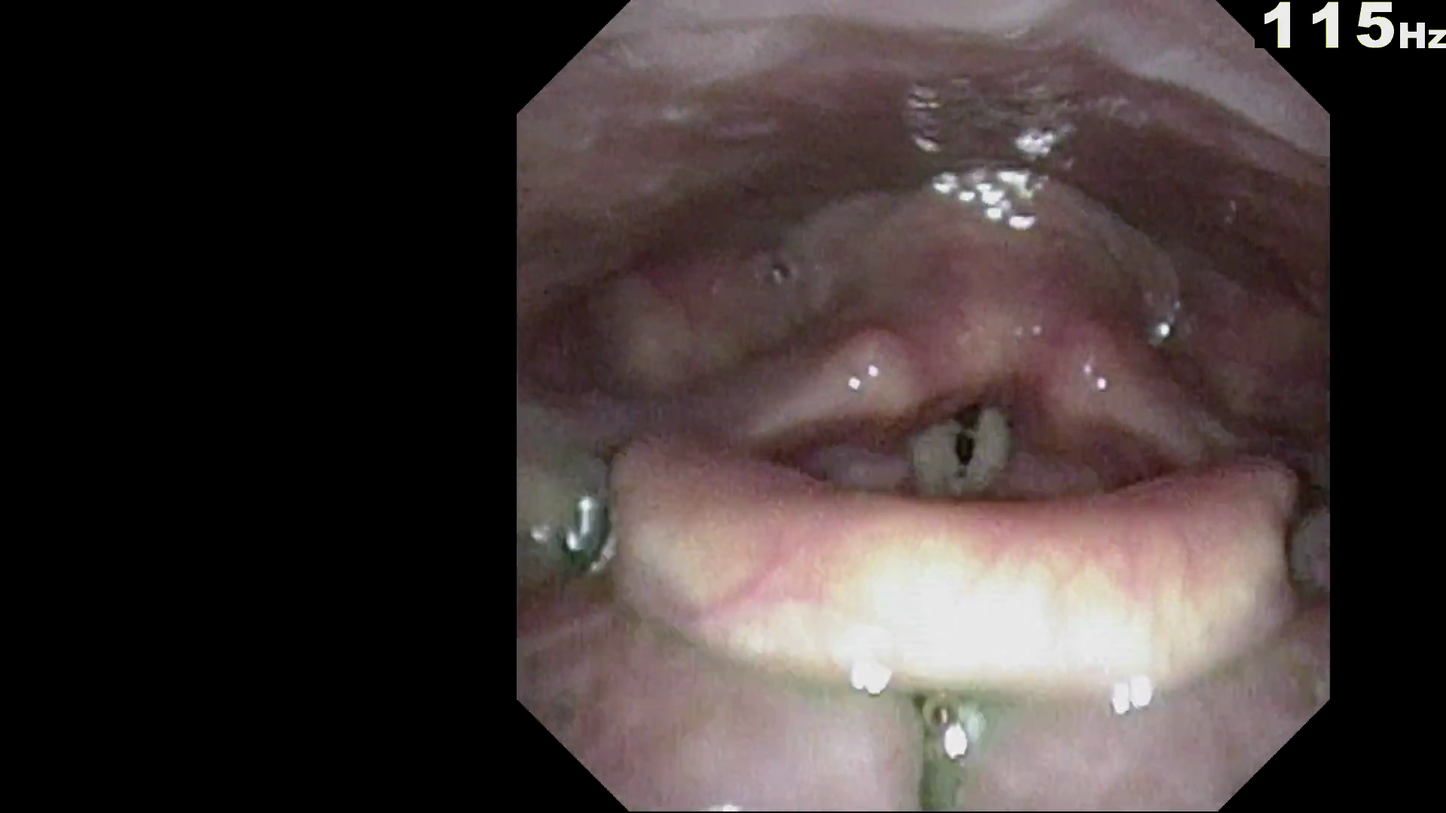epiglottis: (635, 358, 1308, 612)
trachea: (935, 347, 1053, 479)
